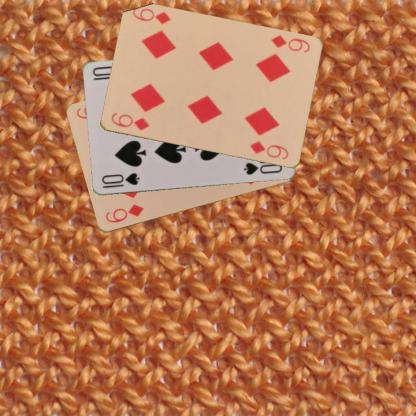10s: (99, 171, 141, 190)
6d: (102, 201, 145, 224), (268, 32, 311, 54), (108, 110, 150, 132)
